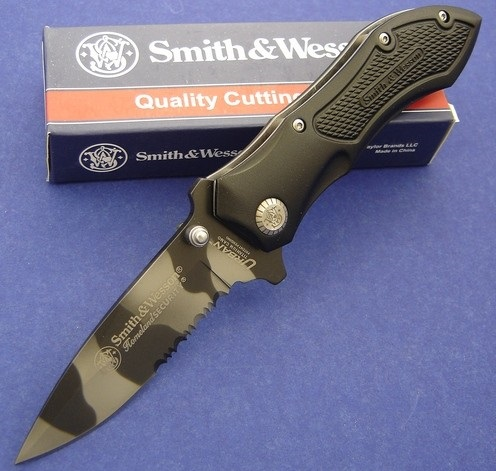knife: (11, 193, 266, 471)
